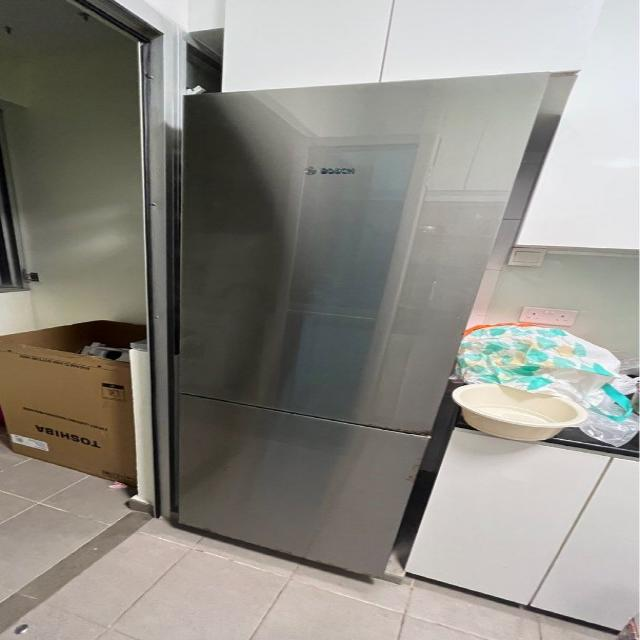refrigerator: (174, 69, 558, 549)
